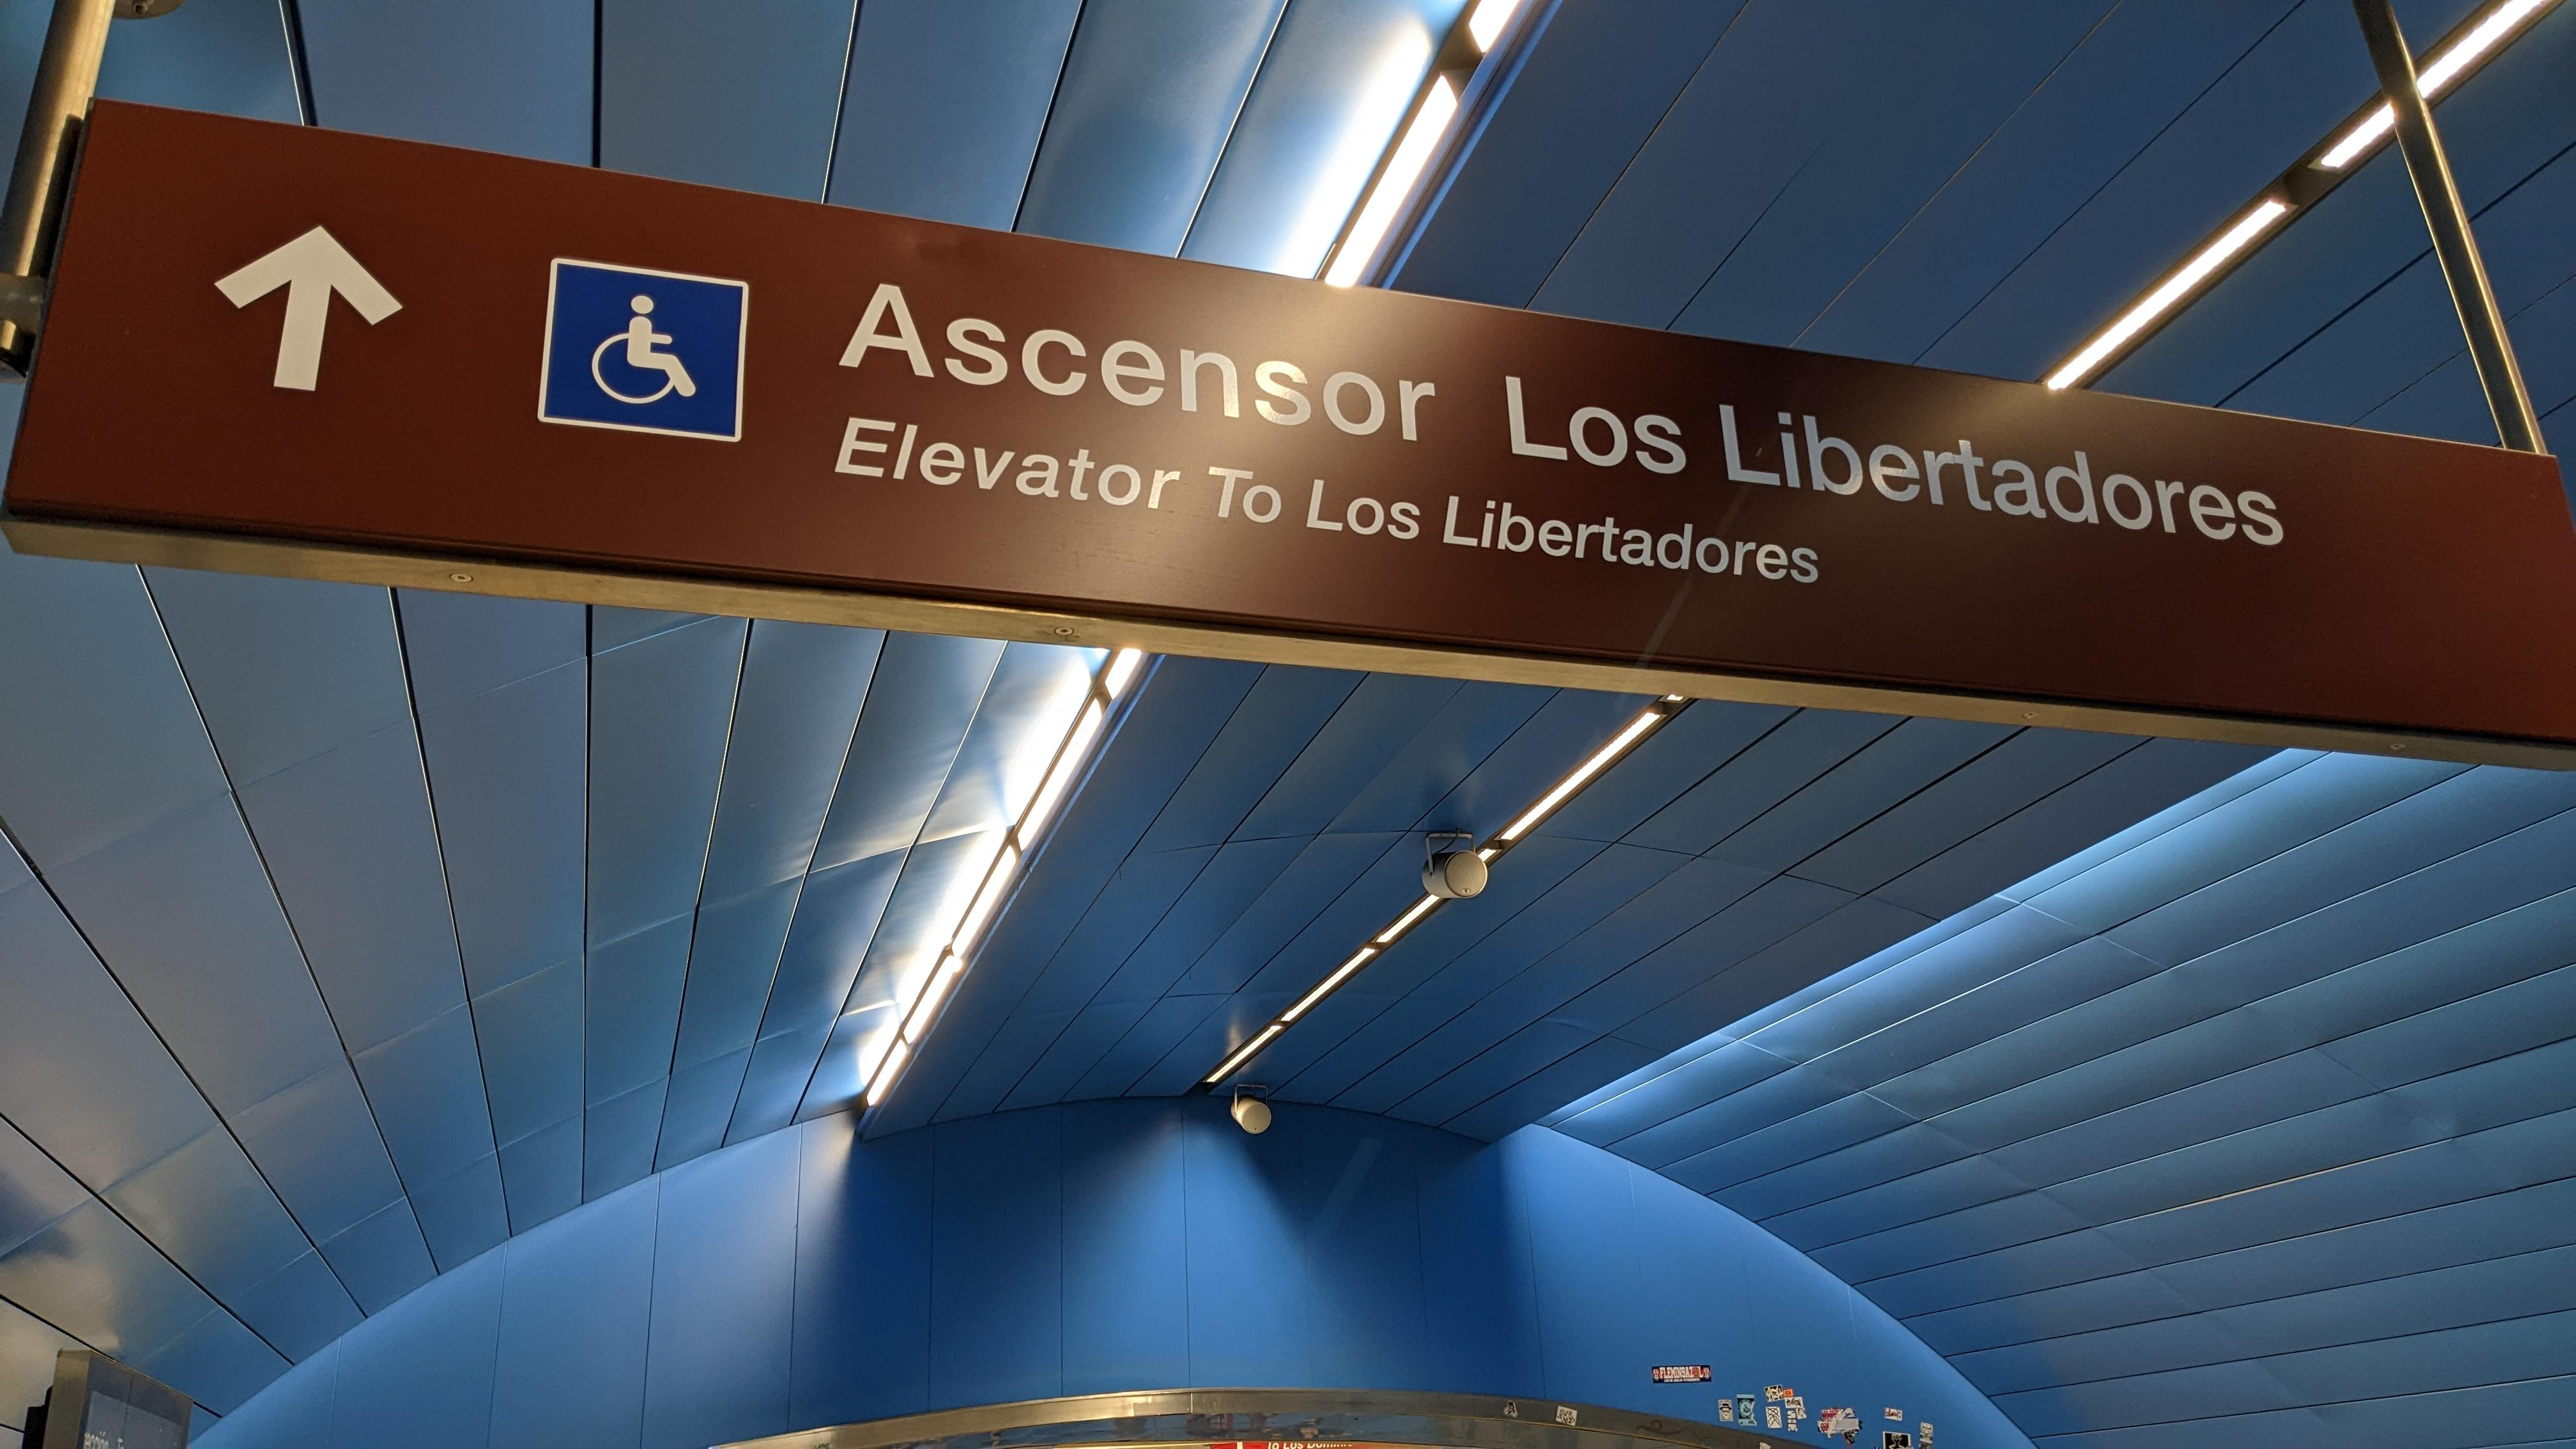handicapped symbol: (584, 290, 701, 410)
up arrow: (209, 216, 414, 402)
